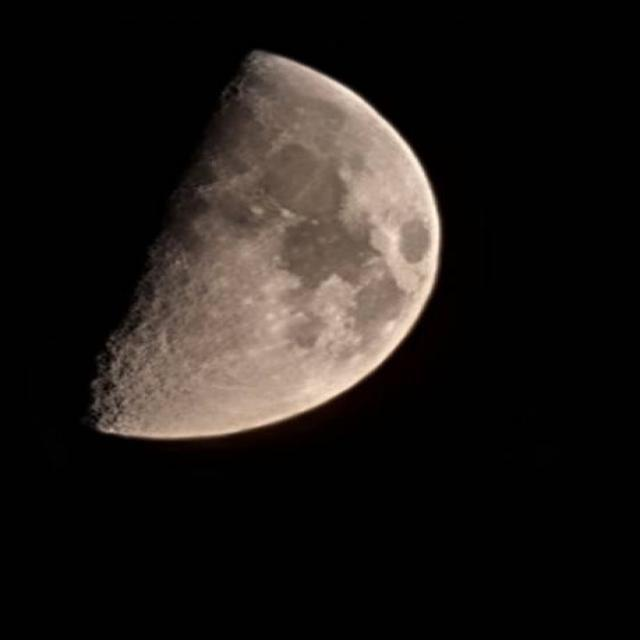moon: (0, 24, 441, 443)
